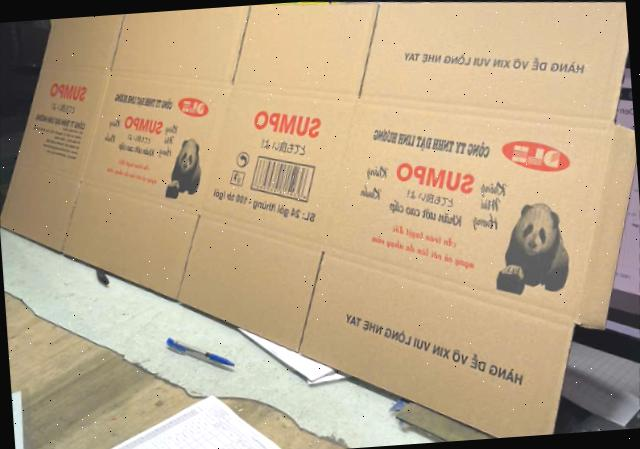box: (0, 0, 636, 437)
